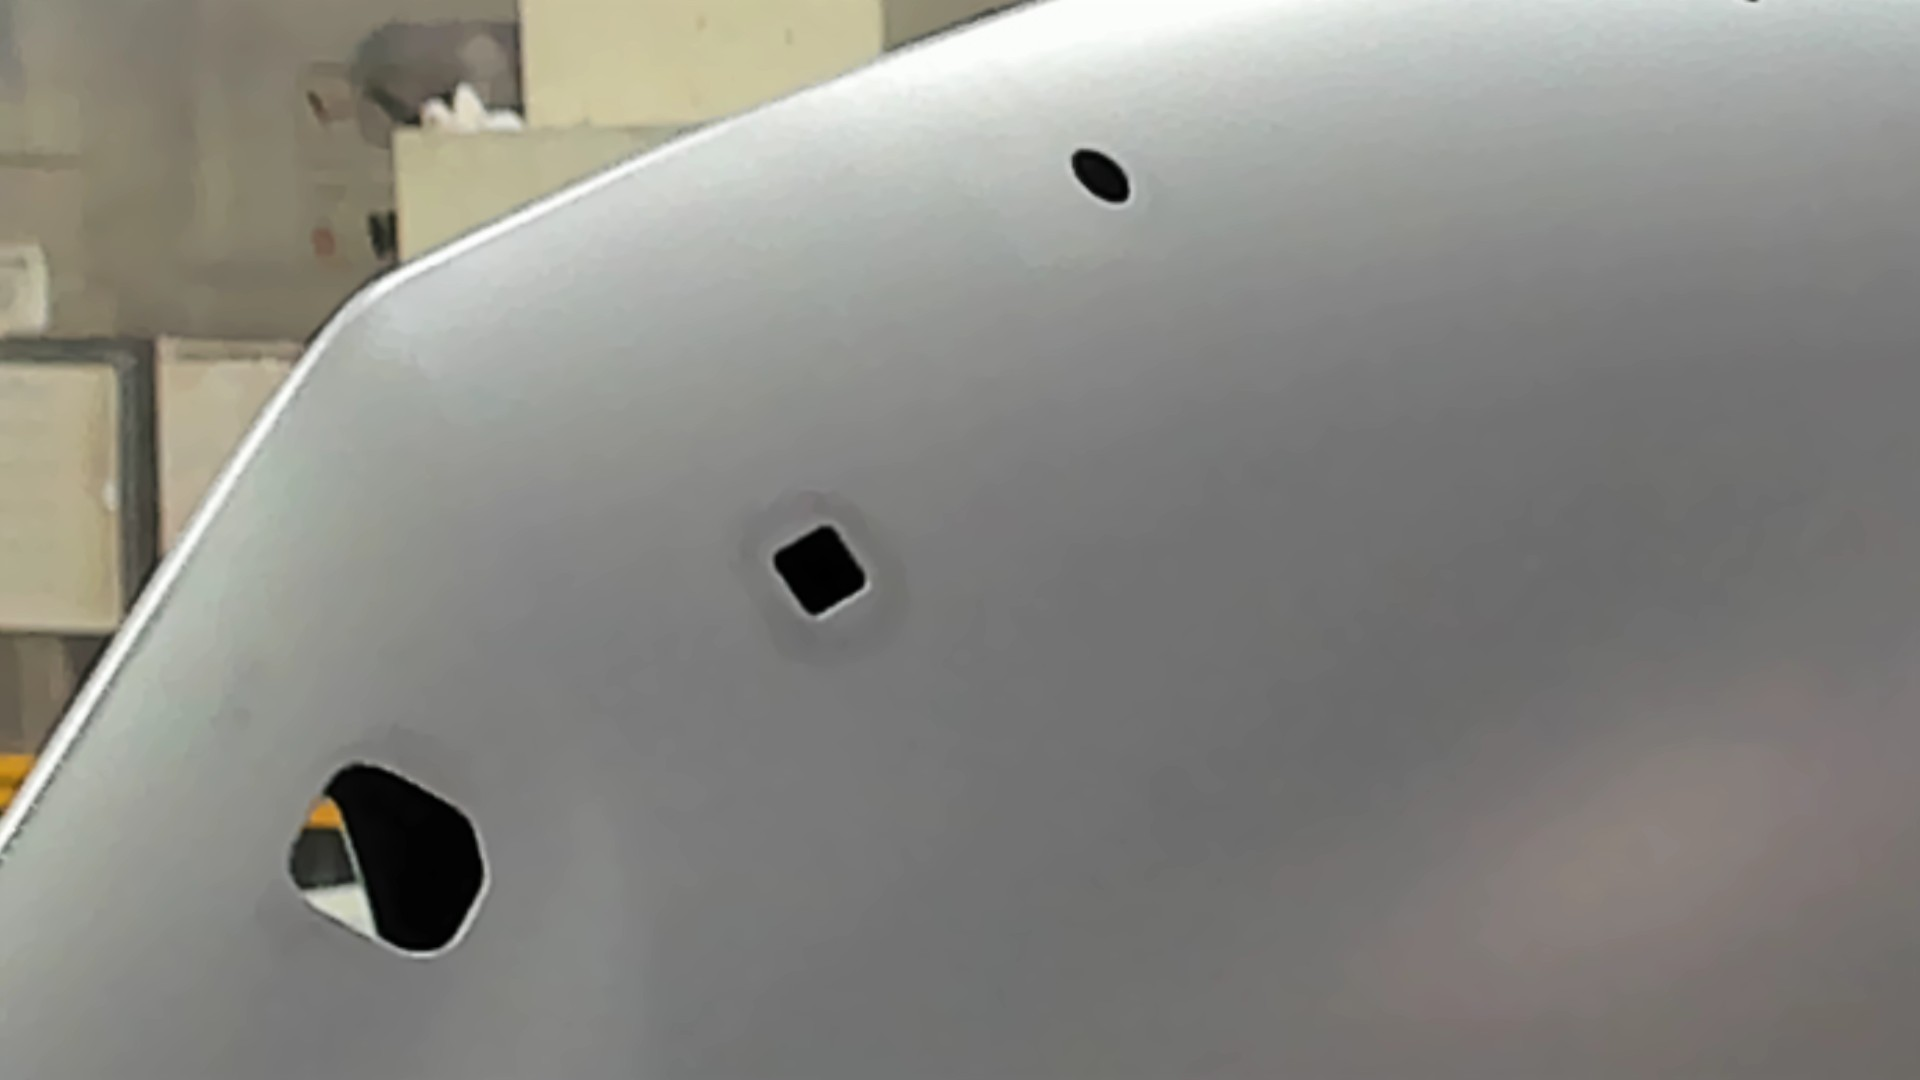capo: (881, 210, 1920, 1080)
chico: (1064, 142, 1139, 208)
grande: (284, 758, 493, 968)
mediano: (761, 517, 874, 632)
